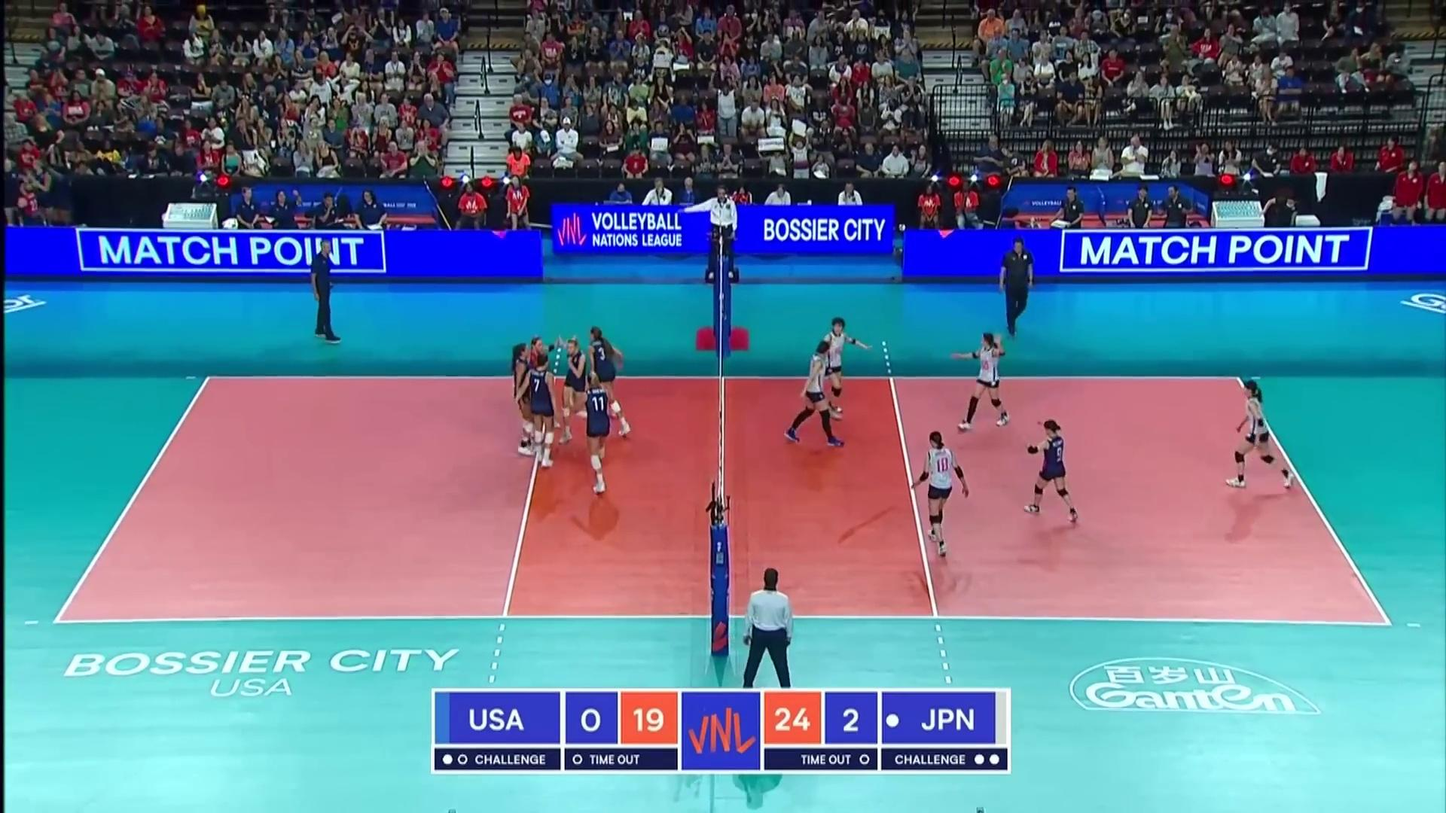player: (1225, 380, 1295, 490), (805, 317, 870, 425), (915, 433, 973, 552), (785, 344, 846, 450), (1023, 421, 1080, 522), (951, 332, 1007, 428), (553, 336, 598, 444), (523, 356, 561, 470), (589, 326, 627, 437), (582, 374, 614, 498), (508, 344, 544, 453), (524, 336, 560, 443)
refree: (739, 569, 796, 704), (702, 182, 744, 279)
